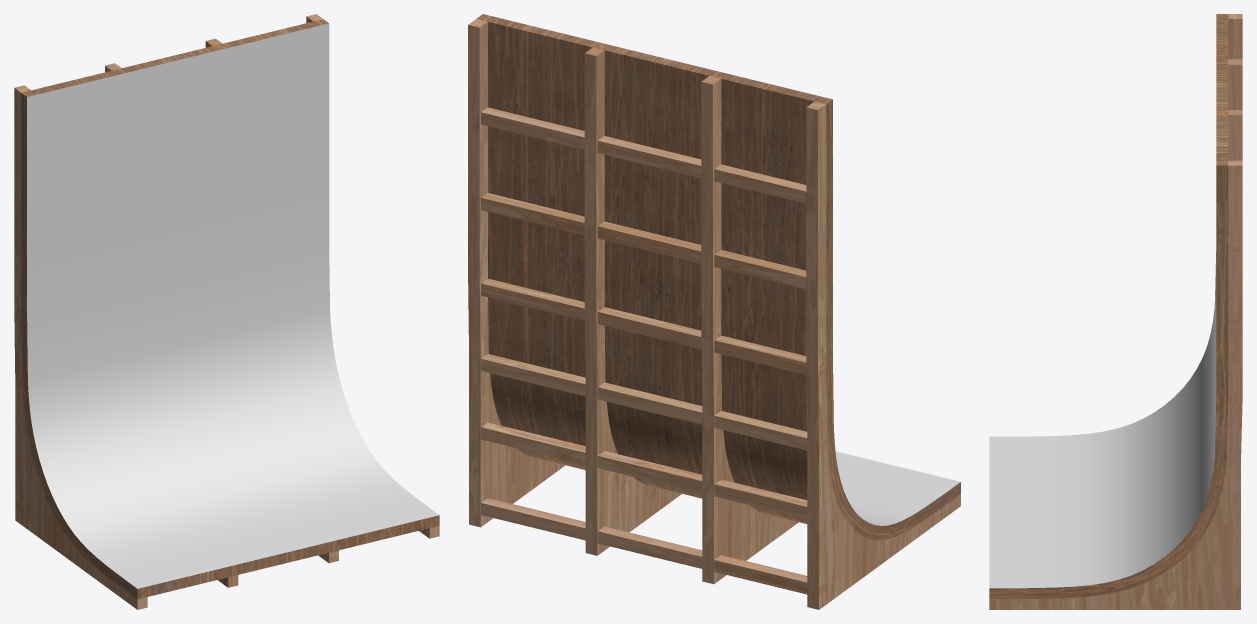
File: GreenScreen_Side.fbx
3 renders of one model, left to right at view 1: azimuth 30°, elevation 25°; view 2: azimuth 150°, elevation 25°; view 3: azimuth 270°, elevation 25°, orthographic. The views are drawn at different scales.
Visible parts, largest first — view 1: GreenScreen_Side; view 2: GreenScreen_Side; view 3: GreenScreen_Side.
Part boxes in pixels (bbox=[...]): GreenScreen_Side: bbox=[14, 14, 439, 609]; GreenScreen_Side: bbox=[468, 14, 960, 609]; GreenScreen_Side: bbox=[989, 14, 1242, 609].
Size of the model in its own units: 3 by 4.1 by 2.12.
